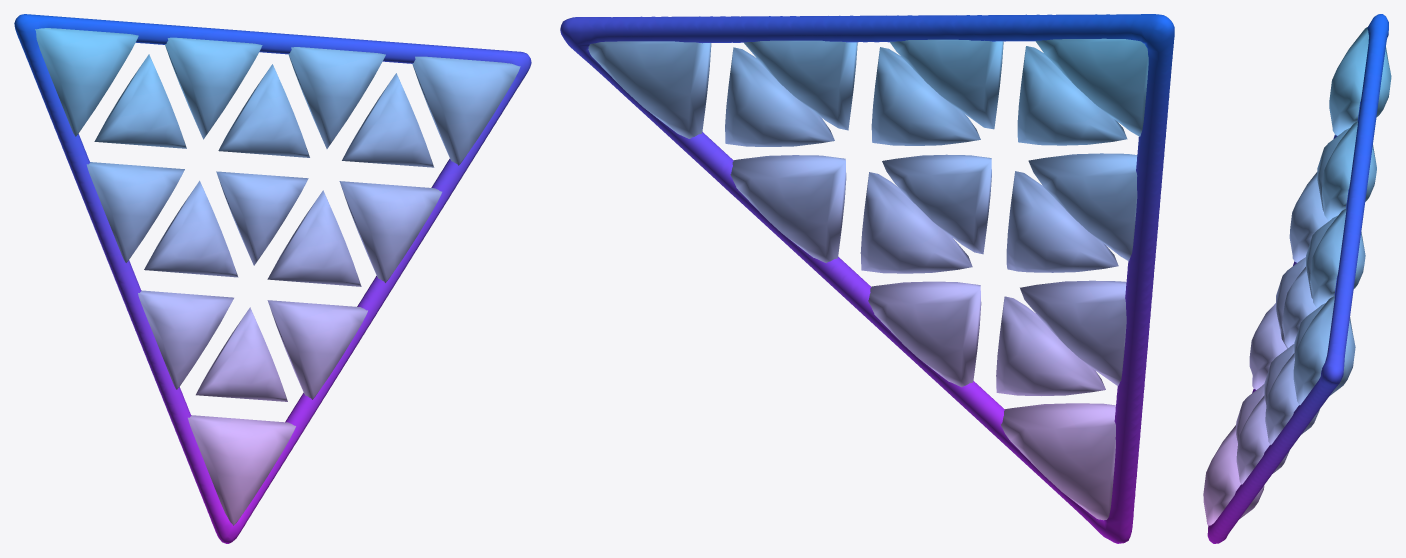
Rendered from threemodel.glb.
3 views of the same model, side by side, from view 1: azimuth 30°, elevation 25°; view 2: azimuth 150°, elevation 25°; view 3: azimuth 270°, elevation 25° (orthographic). The views are drawn at different scales.
Parts seen in each view (by area): view 1: Vector (×2); view 2: Vector (×2); view 3: Vector (×2).
Boxes of the visible parts, x1=… form: Vector (×2): x1=14, y1=14, x2=531, y2=543; Vector (×2): x1=560, y1=14, x2=1174, y2=543; Vector (×2): x1=1203, y1=14, x2=1391, y2=543.
Size of the model in its own units: 25.13 by 24.15 by 8.7.
Materials: 2 (2 with a texture image).
